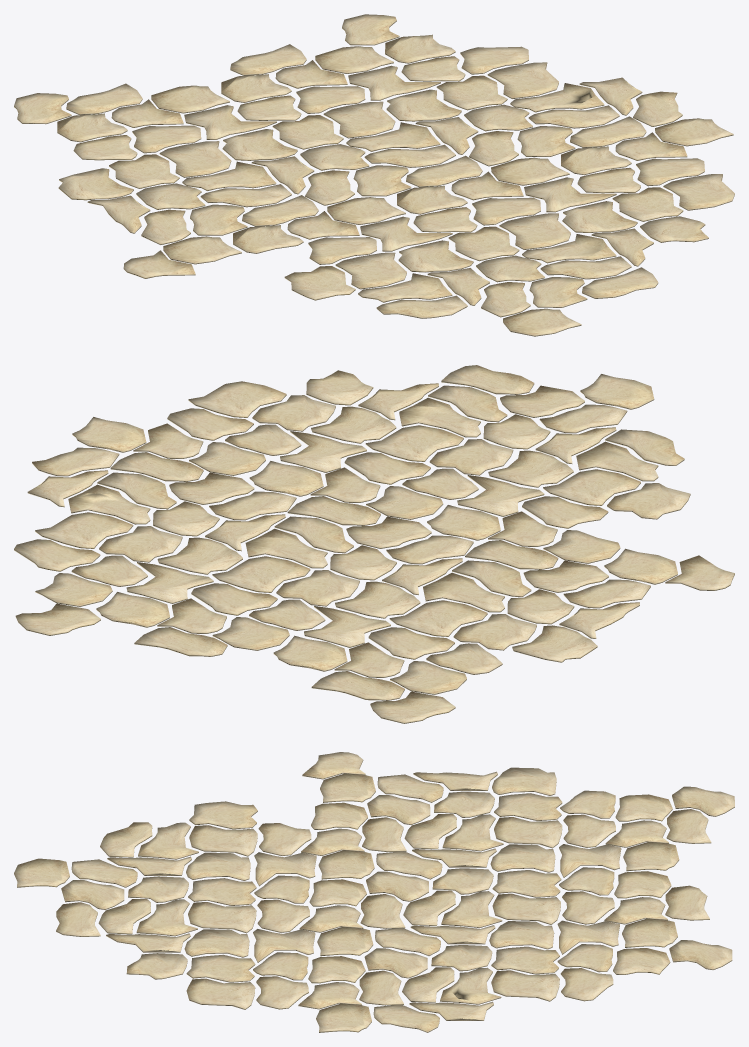
Rendered from SueloPiedraZona2_V3.fbx.
3 renders of one model, top to bottom at view 1: azimuth 30°, elevation 25°; view 2: azimuth 150°, elevation 25°; view 3: azimuth 270°, elevation 25°, orthographic. The views are drawn at different scales.
Parts seen in each view (by area): view 1: Cube_025; view 2: Cube_025; view 3: Cube_025.
Part boxes in pixels (x1,y1,x2,y2): Cube_025: (14,14,734,336); Cube_025: (14,365,734,723); Cube_025: (14,752,734,1032).
Size of the model in its own units: 7942 by 17.79 by 8653.
